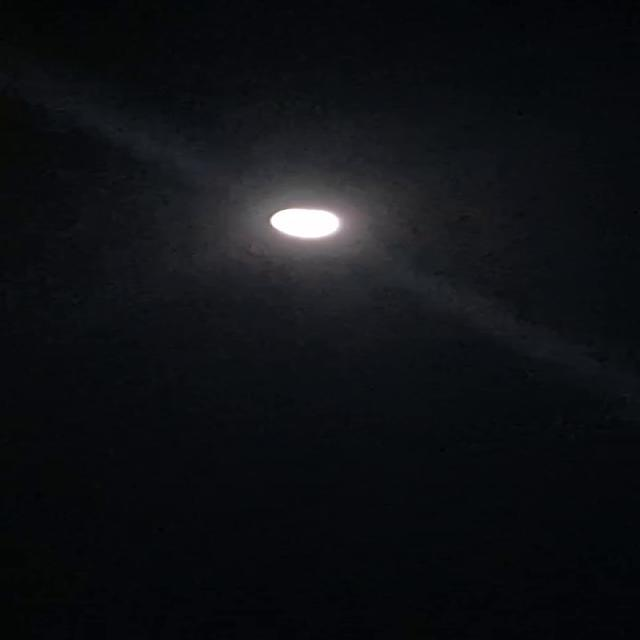moon: (250, 198, 354, 248)
